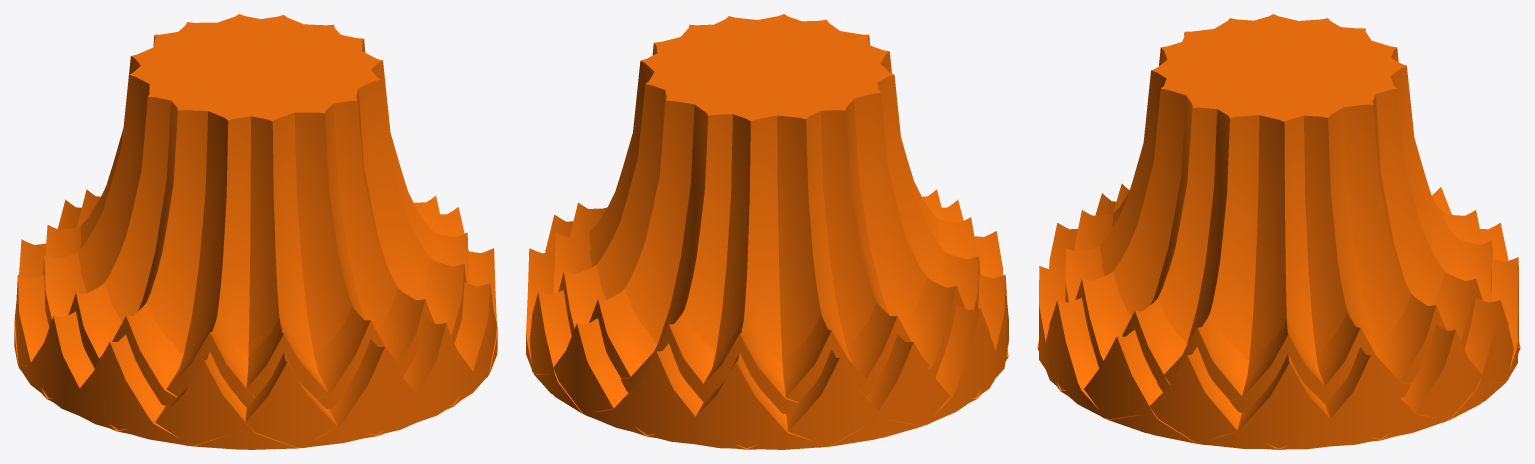
The model's file is Glasshour Sand.obj.
3 views of the same model, side by side, from view 1: azimuth 30°, elevation 25°; view 2: azimuth 150°, elevation 25°; view 3: azimuth 270°, elevation 25° (orthographic).
Parts seen in each view (by area): view 1: Sand1; view 2: Sand1; view 3: Sand1.
Part boxes in pixels (x1,y1,x2,y2): Sand1: [14, 14, 497, 449]; Sand1: [526, 14, 1008, 449]; Sand1: [1037, 14, 1520, 449].
Size of the model in its own units: 1.8 by 1.15 by 1.8.
